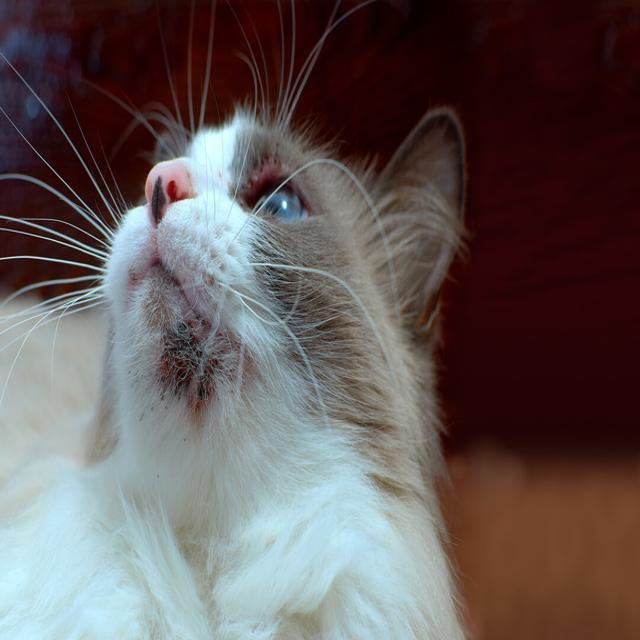acne: (156, 318, 229, 412)
